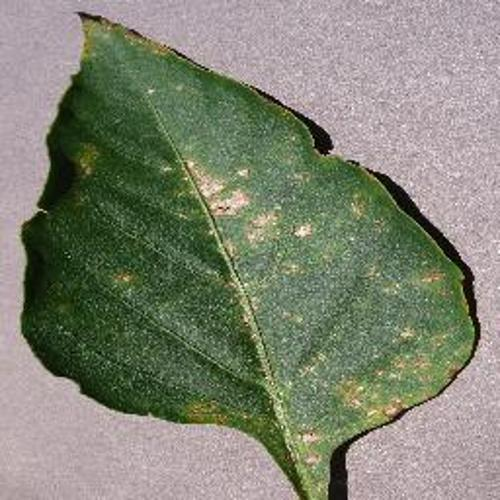Pepper: (22, 12, 479, 500)
